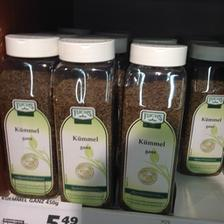Gewuerze: (114, 40, 186, 212), (52, 35, 116, 208), (0, 31, 56, 197), (181, 41, 221, 177)
